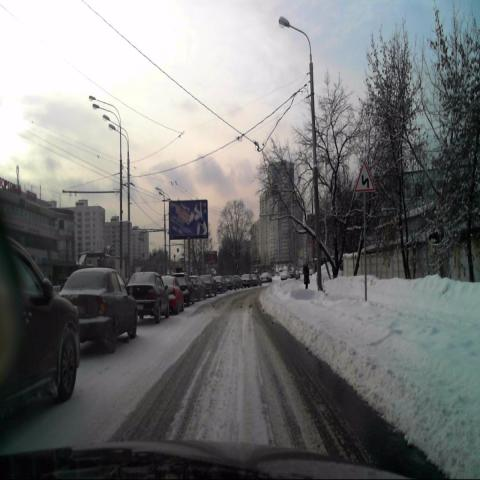1_12_2: (354, 162, 374, 192)
